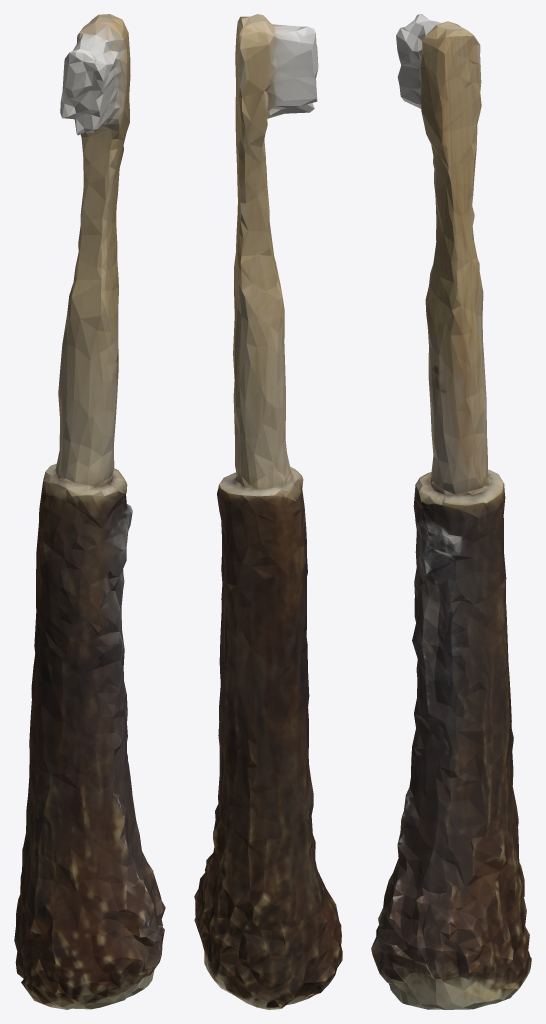
The model's file is 9313F27C-9F17-194E-9126-33DCDC581676_512.glb.
3 views of the same model, side by side, from view 1: azimuth 30°, elevation 25°; view 2: azimuth 150°, elevation 25°; view 3: azimuth 270°, elevation 25° (orthographic). The views are drawn at different scales.
Parts seen in each view (by area): view 1: Zahnburste_1k; view 2: Zahnburste_1k; view 3: Zahnburste_1k.
Boxes of the visible parts, left/top/right/bottom form: Zahnburste_1k: left=14, top=14, right=165, bottom=1009; Zahnburste_1k: left=194, top=14, right=342, bottom=1009; Zahnburste_1k: left=371, top=14, right=531, bottom=1009.
Bounding box in the file's own units: 0.0299 × 0.2101 × 0.031.
1 material, 1 textured.
